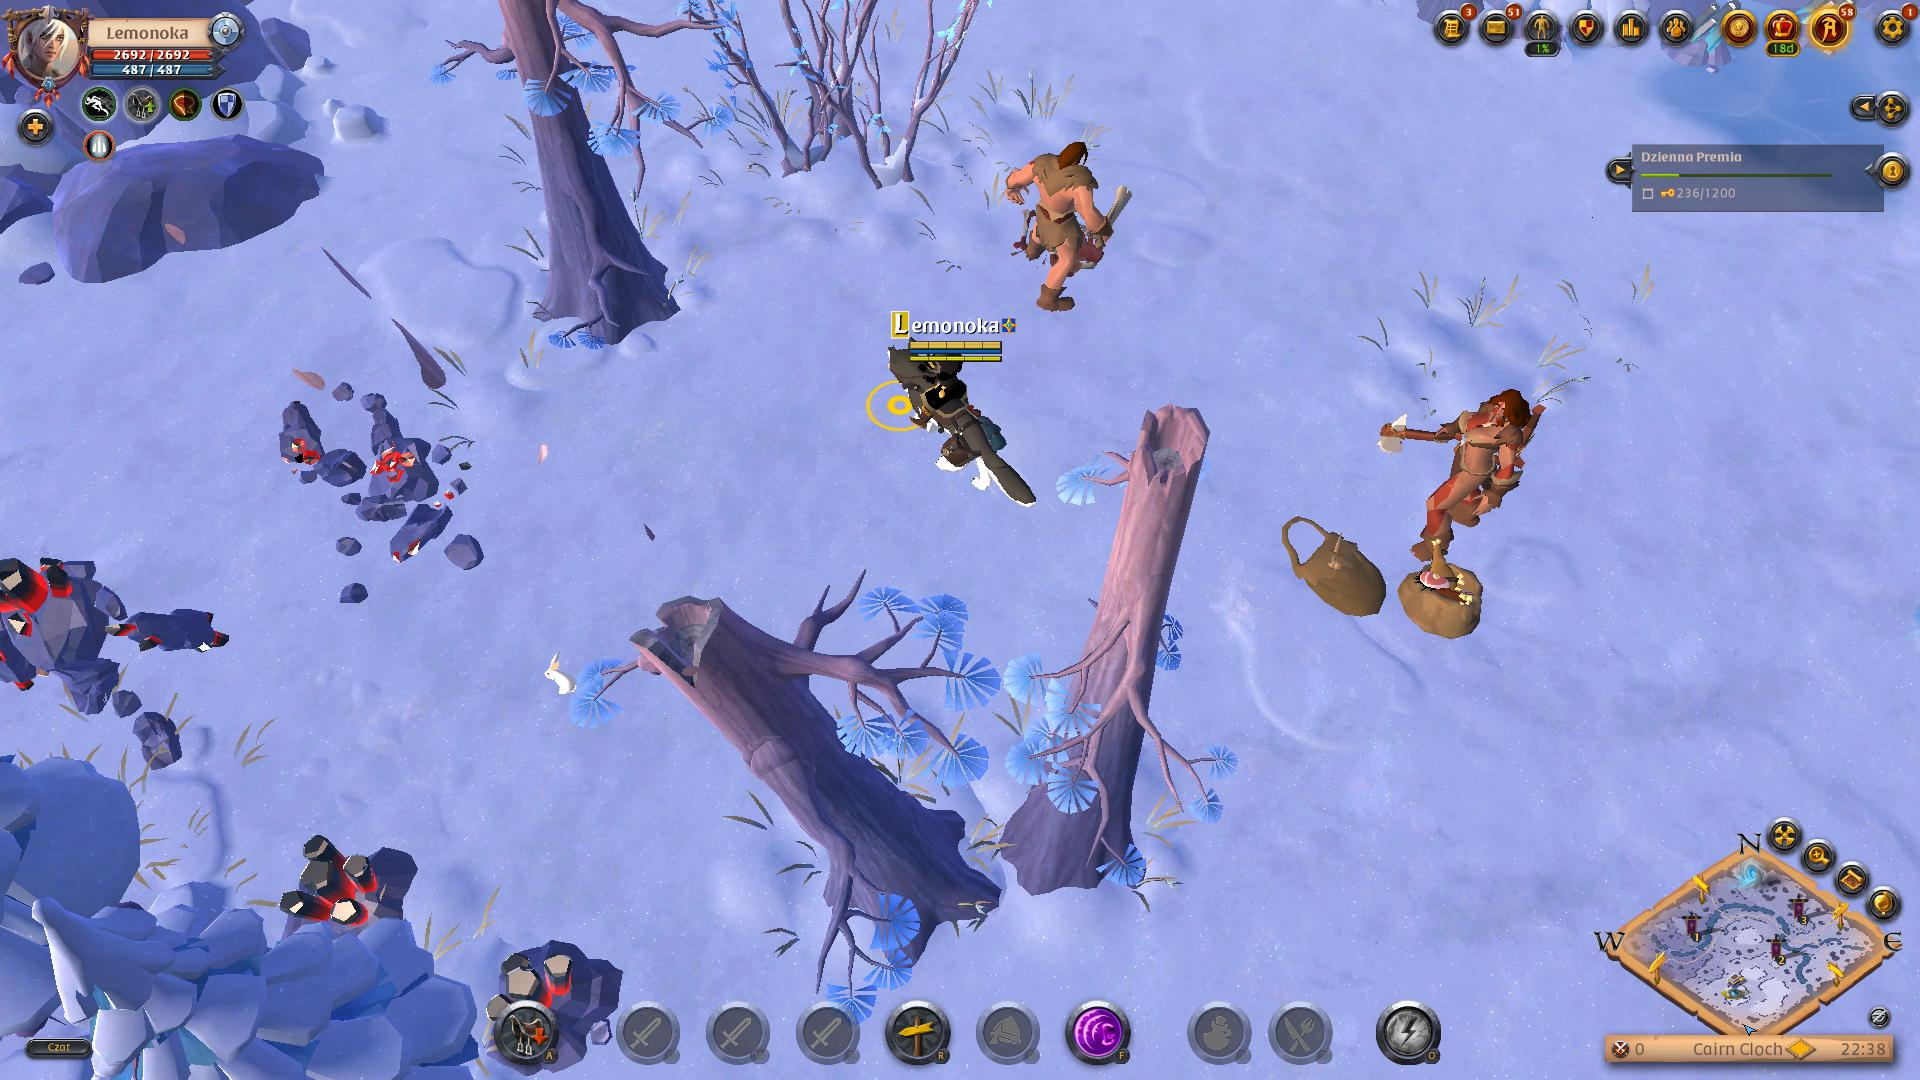ore tier 5: (278, 832, 417, 947)
